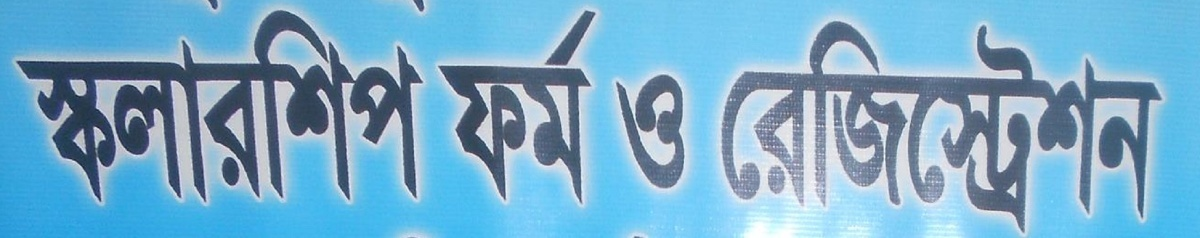text: (721, 15, 736, 237), (737, 15, 752, 237), (753, 15, 768, 237), (769, 15, 784, 237), (785, 15, 800, 237), (801, 15, 816, 237), (817, 15, 832, 237), (833, 15, 848, 237), (849, 15, 864, 237), (865, 15, 880, 237), (881, 15, 896, 237), (897, 15, 912, 237), (913, 15, 928, 237), (929, 15, 944, 237), (945, 15, 960, 237), (961, 15, 976, 237), (977, 15, 992, 237), (993, 15, 1008, 237), (1009, 15, 1024, 237), (1025, 15, 1040, 237), (1041, 15, 1056, 237), (1057, 15, 1072, 237), (1073, 15, 1088, 237), (1089, 15, 1104, 237), (1105, 15, 1120, 237), (1121, 15, 1136, 237), (1137, 15, 1152, 237), (1153, 15, 1167, 237), (17, 5, 32, 210), (33, 5, 48, 210), (49, 5, 64, 210), (65, 5, 80, 210), (81, 5, 96, 210), (97, 5, 112, 210), (113, 5, 128, 210), (129, 5, 144, 210), (145, 5, 160, 210), (161, 5, 176, 210), (177, 5, 192, 210), (193, 5, 208, 210), (209, 5, 224, 210), (225, 5, 240, 210), (241, 5, 256, 210), (257, 5, 272, 210), (273, 5, 288, 210), (289, 5, 304, 210), (305, 5, 320, 210), (321, 5, 336, 210), (337, 5, 352, 210), (353, 5, 368, 210), (369, 5, 384, 210), (385, 5, 400, 210), (401, 5, 416, 210), (449, 10, 464, 207), (465, 10, 480, 207), (481, 10, 496, 207), (497, 10, 512, 207), (513, 10, 528, 207), (529, 10, 544, 207), (545, 10, 560, 207), (561, 10, 576, 207), (577, 10, 592, 207), (3, 5, 16, 210), (437, 10, 448, 207), (625, 73, 640, 192), (641, 73, 656, 192), (657, 73, 672, 192), (417, 5, 425, 210), (673, 73, 686, 192), (593, 10, 599, 207), (617, 73, 624, 192), (718, 15, 720, 237)
